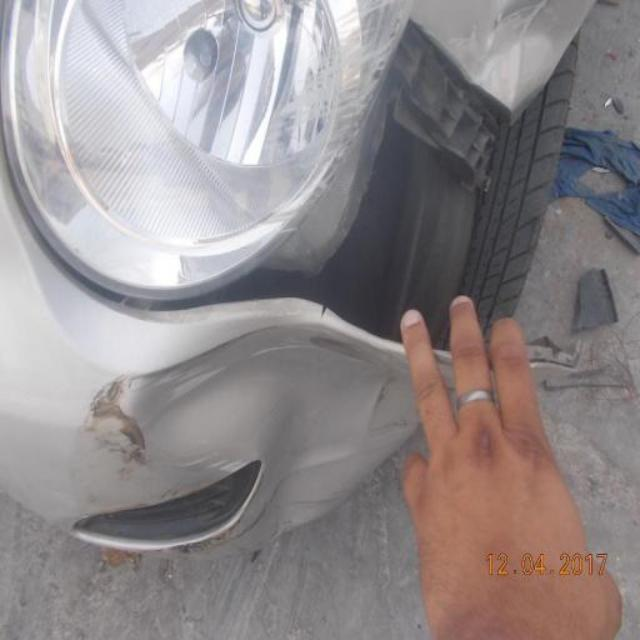dent: (446, 5, 578, 109)
lamp broken: (267, 2, 412, 247)
no part: (43, 21, 539, 383)
rub: (88, 375, 145, 470)
scratch: (159, 470, 291, 562), (156, 346, 236, 397), (312, 330, 395, 377), (244, 337, 322, 368), (174, 449, 254, 476)
